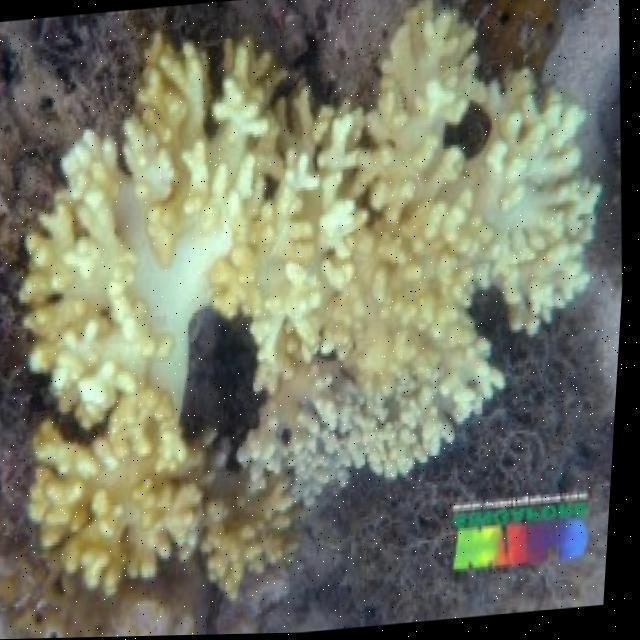Bleached Coral: (0, 16, 355, 620), (270, 0, 636, 496)
